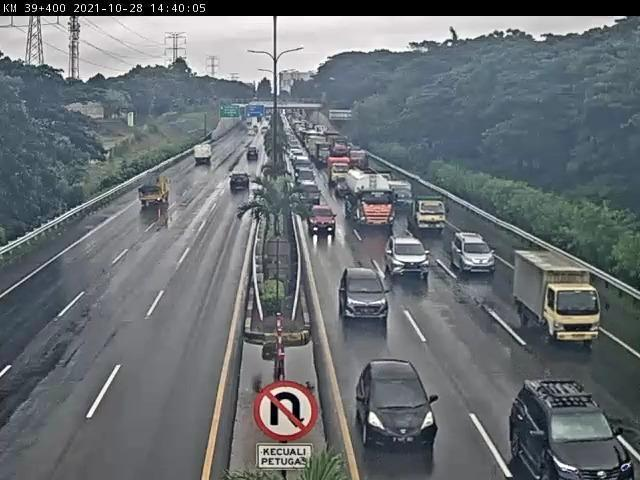car: (508, 383, 635, 480), (357, 360, 437, 451), (339, 268, 391, 323), (452, 232, 495, 271), (388, 238, 431, 277), (309, 206, 338, 233), (300, 182, 323, 204), (228, 170, 254, 189)
truck: (514, 252, 602, 347), (346, 169, 396, 229), (407, 196, 448, 234), (138, 177, 172, 207), (387, 176, 412, 207), (243, 150, 260, 165)
